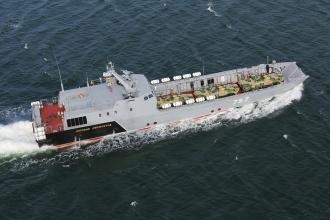Cargoship: (17, 47, 313, 151)
